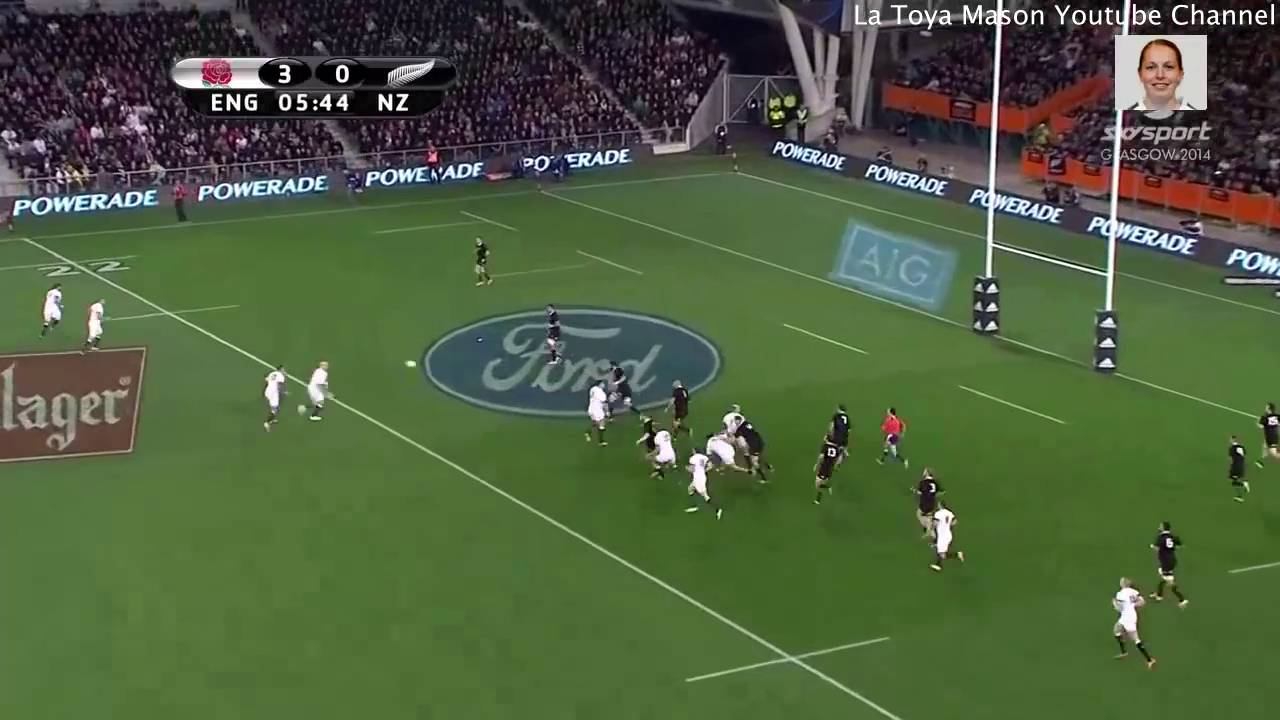ball: (398, 352, 420, 378)
player: (1098, 572, 1165, 674), (1139, 512, 1200, 616), (677, 442, 729, 526), (247, 350, 293, 442), (289, 351, 346, 422), (926, 489, 968, 578), (735, 411, 776, 491), (871, 399, 911, 478), (74, 288, 116, 362), (907, 461, 941, 546), (1218, 425, 1252, 510), (599, 359, 645, 421), (806, 429, 843, 506), (579, 374, 613, 453), (33, 275, 69, 347), (648, 418, 684, 490), (1249, 396, 1280, 476), (824, 396, 856, 469), (706, 427, 748, 481), (536, 299, 570, 365), (664, 375, 697, 442), (469, 231, 499, 293), (631, 410, 657, 472), (718, 400, 747, 435)
post: (963, 1, 1131, 384)
